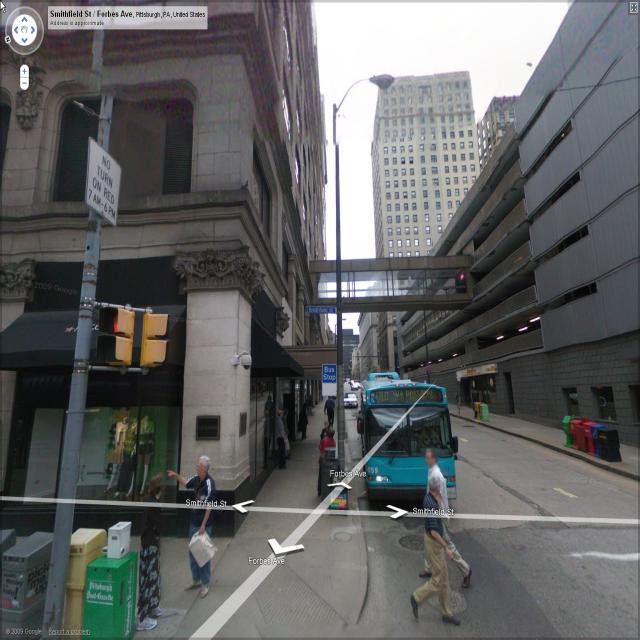b_1: (0, 1, 332, 412), (402, 16, 640, 422), (370, 67, 478, 247), (454, 90, 534, 160)
